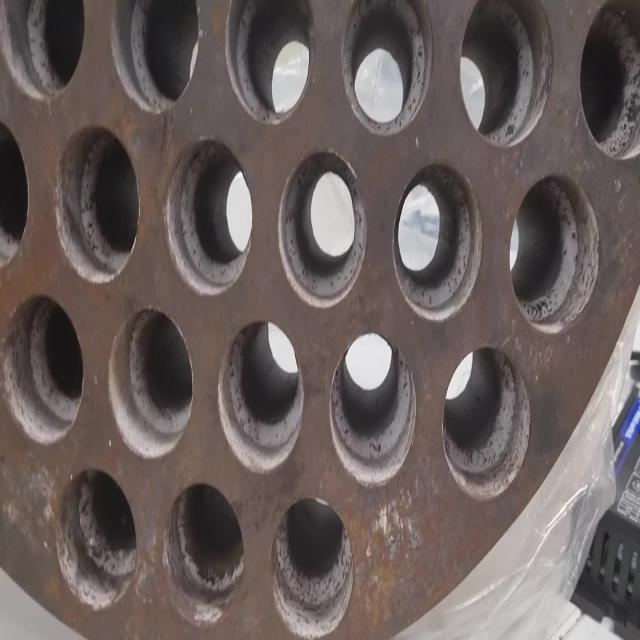Hole: (392, 160, 482, 322), (510, 174, 600, 334), (278, 150, 367, 309), (458, 0, 553, 148), (165, 137, 252, 297), (442, 345, 530, 502), (328, 332, 416, 488), (54, 125, 140, 284), (217, 320, 304, 474), (108, 307, 193, 460), (1, 292, 84, 446), (342, 0, 431, 137), (53, 467, 137, 610), (271, 495, 354, 639), (163, 481, 245, 626), (225, 0, 315, 125), (111, 0, 203, 114), (579, 2, 640, 160), (1, 0, 85, 102), (0, 112, 29, 272)
